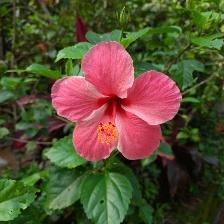hibiscus: (50, 39, 187, 164)
